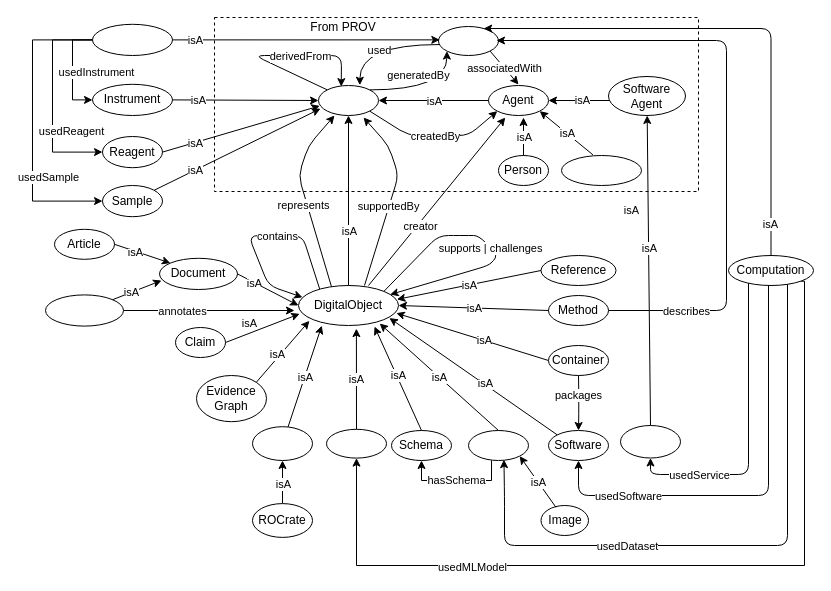
This 831x591 diagram has some shape labels left out. Each missing label, with the centre of its shape:
Activity: the point at 468,41
Annotation: the point at 84,310
Dataset: the point at 498,445
Entity: the point at 348,100
Experiment: the point at 132,39
MLModel: the point at 356,443
Organization: the point at 601,170
Package: the point at 282,443
Service: the point at 650,441
